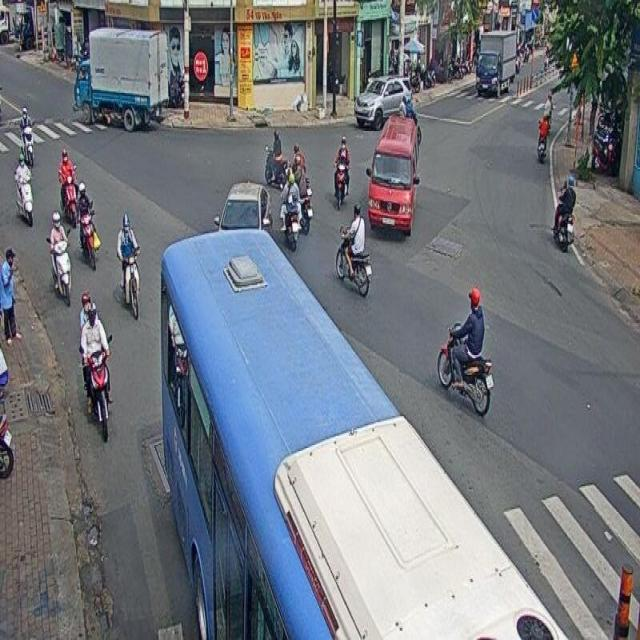bus: (159, 230, 569, 640)
car: (367, 116, 419, 227), (214, 181, 272, 230)
motorcycle: (437, 286, 492, 418), (78, 291, 113, 443), (335, 200, 372, 298), (116, 212, 139, 320), (45, 210, 71, 305), (75, 180, 100, 271), (279, 168, 302, 250), (554, 176, 576, 252), (12, 154, 34, 230), (58, 146, 78, 229), (333, 136, 350, 210), (19, 106, 34, 164)
